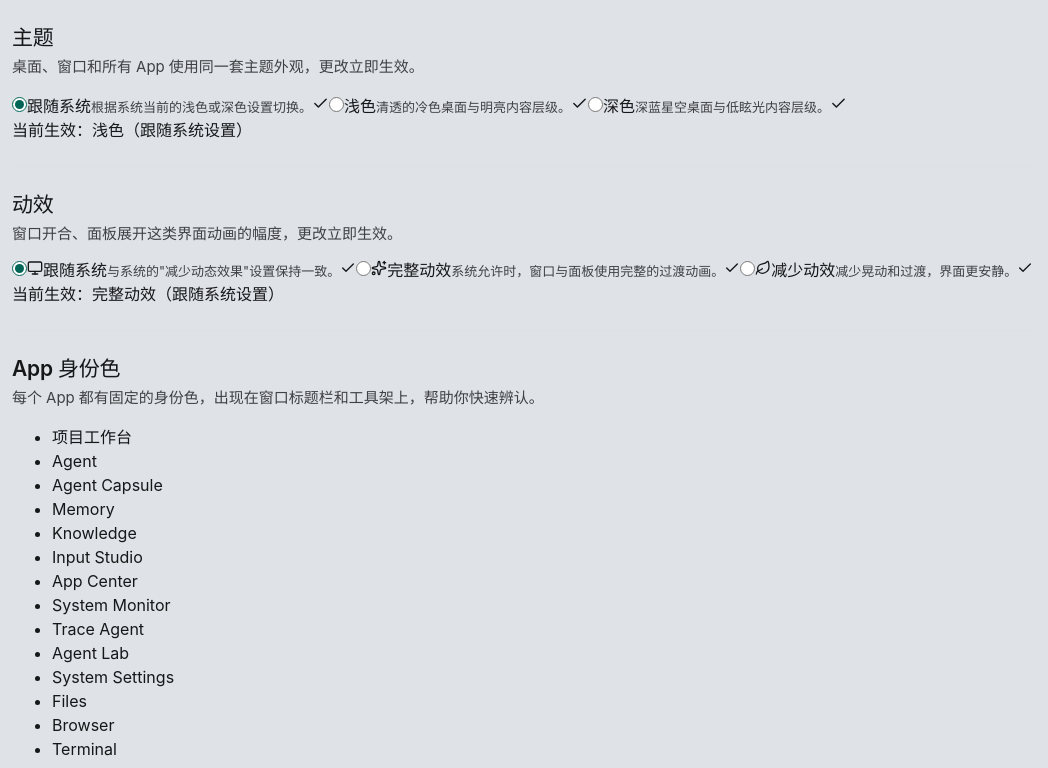
Scenario: PAWOS appearance settings › saves the motion preference locally and reports the effective result
Expected: the radio button labelled "跟随系统" is checked, x1=12 y1=260 x2=27 y2=276
Expected: the text "当前生效：完整动效（跟随系统设置）" is shown, x1=12 y1=284 x2=284 y2=304
What coordinates should you click on to do the following:
click the radio button labelled "减少动效"
I would click on:
 (748, 268)
Its box is x1=740 y1=260 x2=755 y2=276.
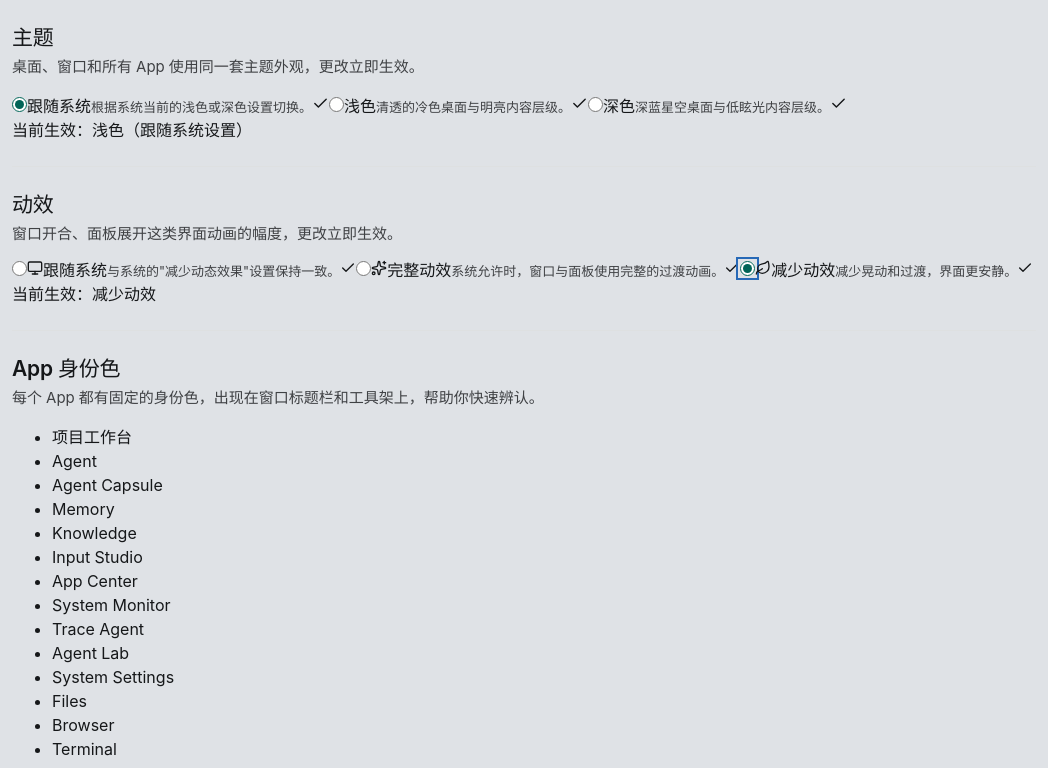
Now the radio button labelled "减少动效" is checked, box x1=740 y1=260 x2=755 y2=276
Now the text "当前生效：减少动效" is shown, box x1=12 y1=284 x2=156 y2=304
